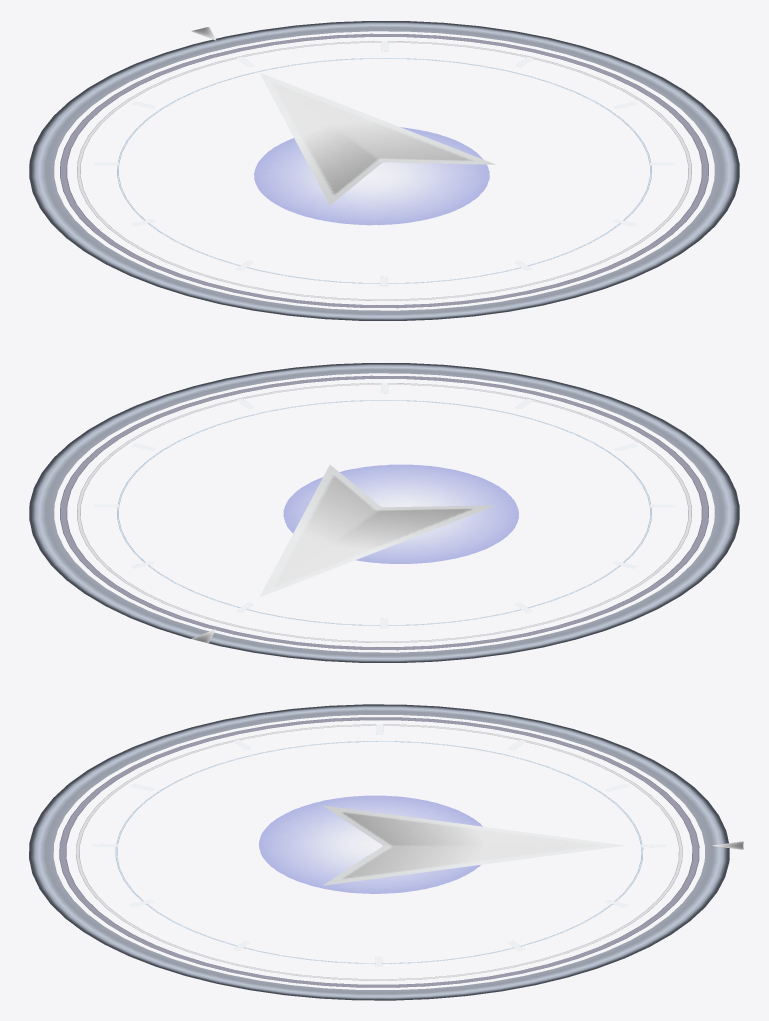
File: base_indicate.fbx
3 renders of one model, top to bottom at view 1: azimuth 30°, elevation 25°; view 2: azimuth 150°, elevation 25°; view 3: azimuth 270°, elevation 25°, orthographic.
Visible parts, largest first — view 1: base, base_front; view 2: base, base_front; view 3: base, base_front.
Part boxes in pixels (box(x1,y1,x2,y2)): base: box(29, 21, 739, 320); base_front: box(93, 27, 675, 286); base: box(29, 363, 739, 662); base_front: box(93, 383, 675, 642); base: box(29, 704, 729, 1000); base_front: box(92, 724, 743, 966).
Bounding box in the file's own units: 96.11 × 97.45 × 1.
